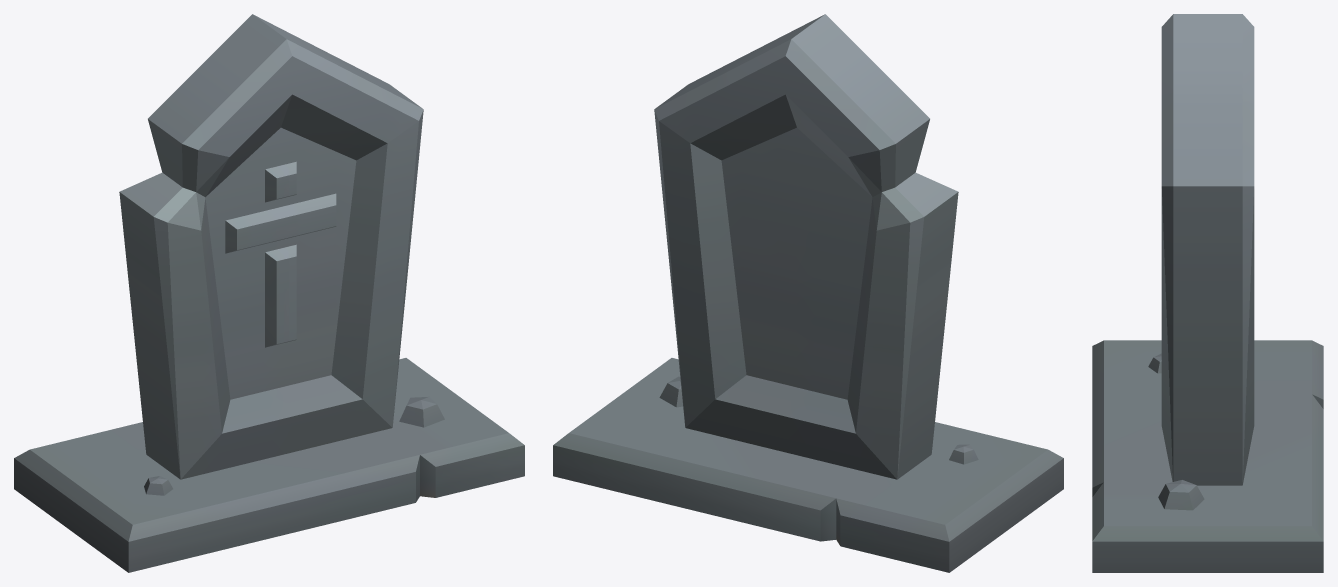
File: h_grave_B.glb
3 views of the same model, side by side, from view 1: azimuth 30°, elevation 25°; view 2: azimuth 150°, elevation 25°; view 3: azimuth 270°, elevation 25° (orthographic).
Visible parts, largest first — view 1: grave_B; view 2: grave_B; view 3: grave_B.
Part boxes in pixels (x1,y1,x2,y2): grave_B: (14, 14, 524, 572); grave_B: (553, 14, 1063, 572); grave_B: (1092, 14, 1323, 572).
Bounding box in the file's own units: 2 × 2.2 × 0.9999.
1 material, 1 textured.
